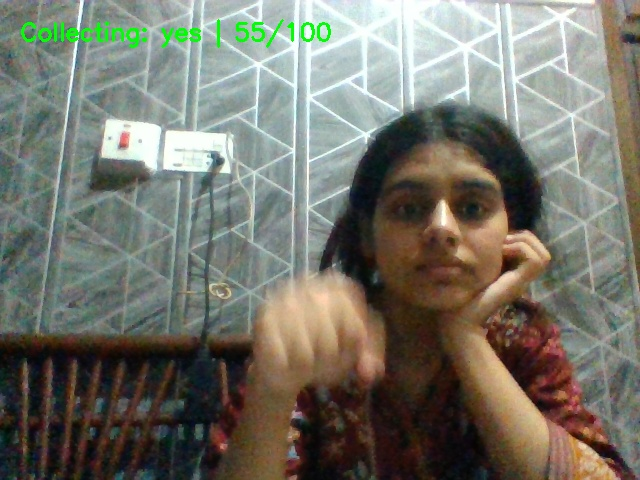yes: (235, 263, 403, 431)
